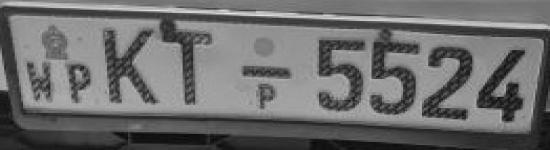-: (234, 64, 299, 83)
2: (422, 44, 476, 121)
4: (478, 47, 531, 126)
5: (311, 34, 368, 113), (369, 36, 420, 116)
K: (99, 25, 161, 108)
P: (61, 61, 100, 104)
T: (155, 27, 218, 108)
W: (23, 60, 62, 102)
